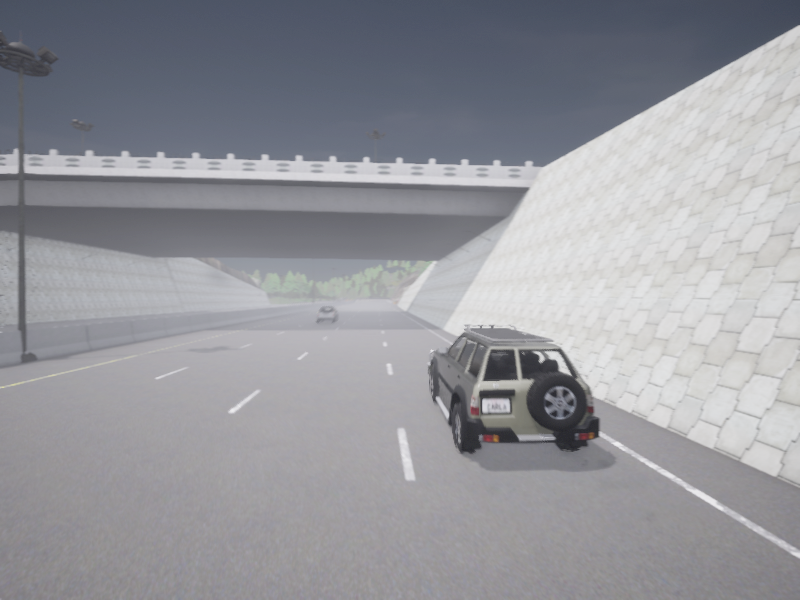vehicle: (428, 325, 599, 452), (317, 306, 337, 322)
